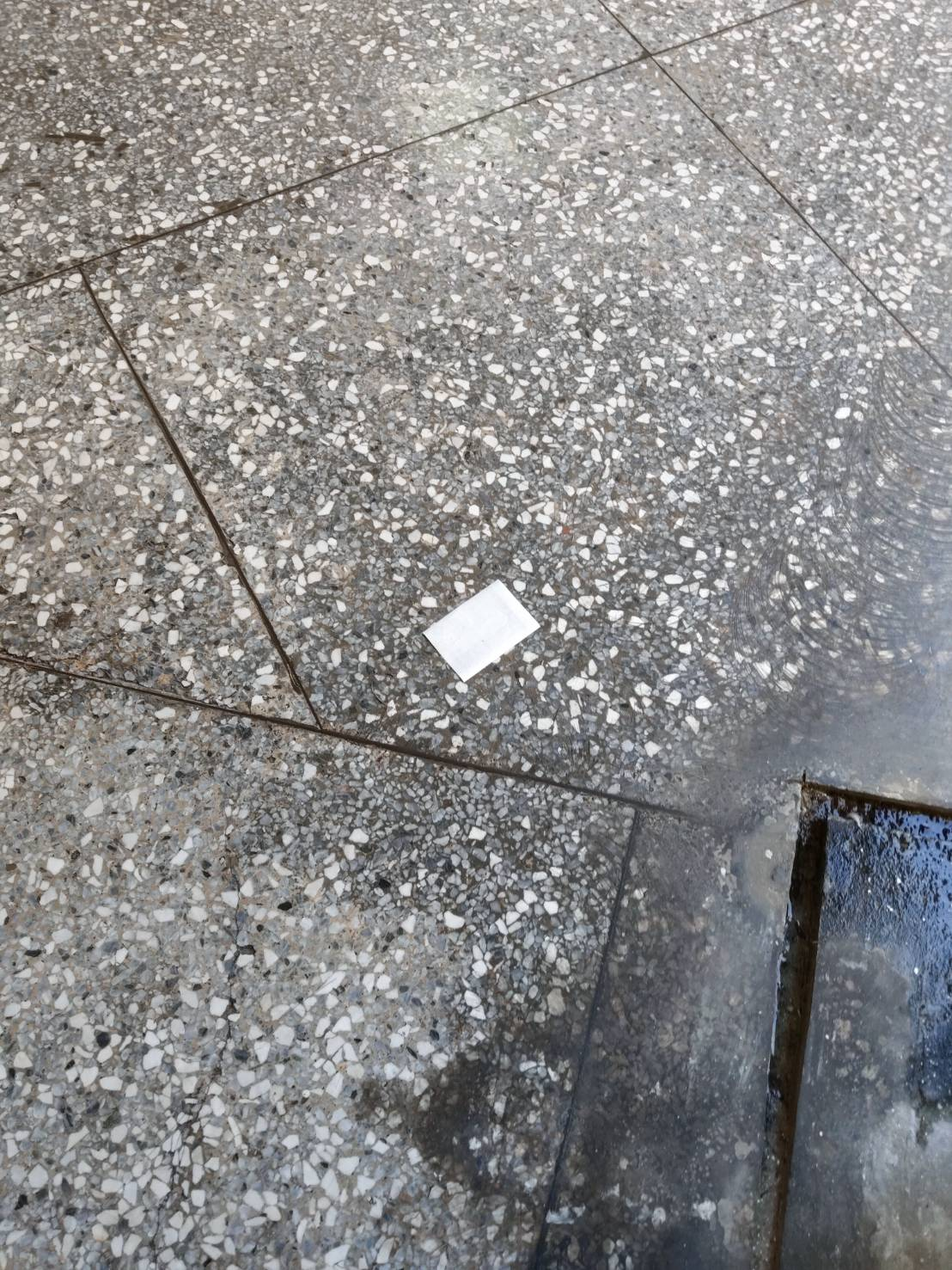paper: (421, 562, 576, 714)
